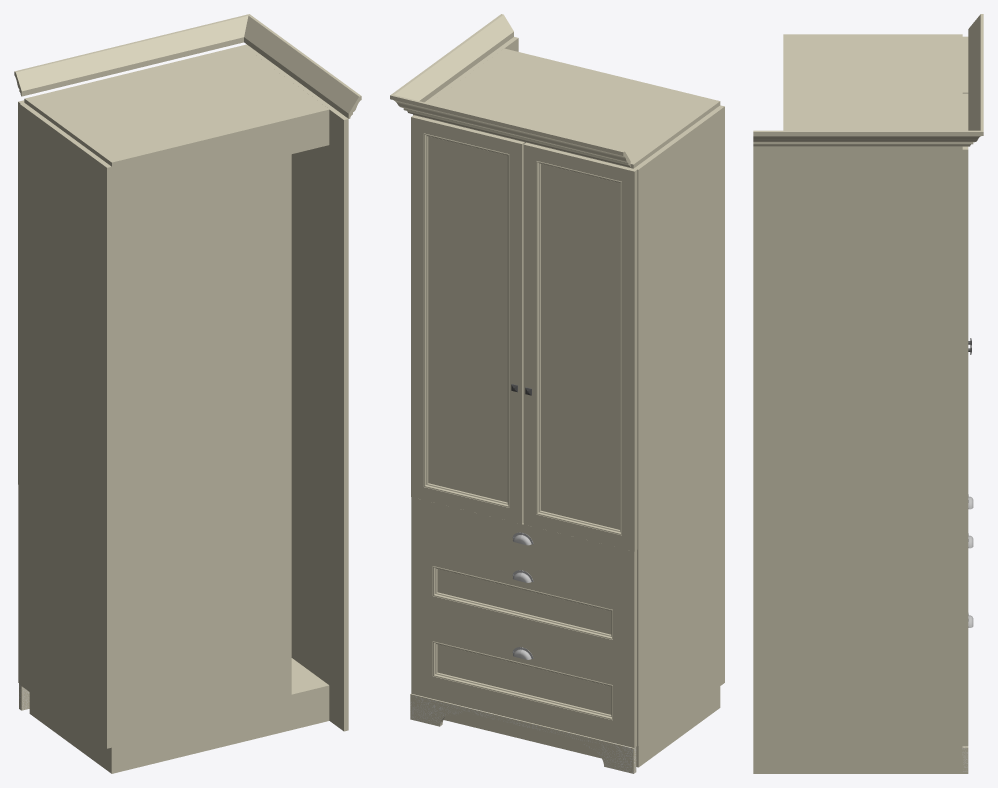
The picture shows the model from 3 angles, left to right: view 1: azimuth 30°, elevation 25°; view 2: azimuth 150°, elevation 25°; view 3: azimuth 270°, elevation 25°; orthographic projection. The views are drawn at different scales.
Visible parts, largest first — view 1: mesh42_mesh42-geometry, mesh40_mesh40-geometry, mesh36_mesh36-geometry, mesh39_mesh39-geometry, mesh43_mesh43-geometry, mesh12_mesh12-geometry; view 2: mesh40_mesh40-geometry, mesh12_mesh12-geometry, mesh9_mesh9-geometry, mesh36_mesh36-geometry, mesh4_mesh4-geometry, mesh1_mesh1-geometry, mesh7_mesh7-geometry, mesh43_mesh43-geometry, mesh45_mesh45-geometry, mesh46_mesh46-geometry, mesh39_mesh39-geometry; view 3: mesh39_mesh39-geometry, mesh36_mesh36-geometry, mesh43_mesh43-geometry, mesh9_mesh9-geometry, mesh4_mesh4-geometry, mesh1_mesh1-geometry.
Part boxes in pixels (x1,y1,x2,y2): mesh42_mesh42-geometry: (112,154,291,742); mesh40_mesh40-geometry: (19,103,111,748); mesh36_mesh36-geometry: (24,45,329,773); mesh39_mesh39-geometry: (242,44,348,731); mesh43_mesh43-geometry: (14,14,361,118); mesh12_mesh12-geometry: (18,100,24,485); mesh40_mesh40-geometry: (634,105,724,745); mesh12_mesh12-geometry: (523,142,637,551); mesh9_mesh9-geometry: (411,115,524,523); mesh36_mesh36-geometry: (417,48,720,767); mesh4_mesh4-geometry: (411,613,636,747); mesh1_mesh1-geometry: (411,538,636,667); mesh7_mesh7-geometry: (411,497,636,592); mesh43_mesh43-geometry: (390,14,630,166); mesh45_mesh45-geometry: (511,718,636,773); mesh46_mesh46-geometry: (410,693,511,726); mesh39_mesh39-geometry: (413,37,518,115); mesh39_mesh39-geometry: (753,146,962,773); mesh36_mesh36-geometry: (783,34,962,130); mesh43_mesh43-geometry: (753,14,983,146); mesh9_mesh9-geometry: (962,93,968,542); mesh4_mesh4-geometry: (962,663,968,746); mesh1_mesh1-geometry: (962,585,968,663).
Bounding box in the file's own units: 0.3541 × 0.8902 × 0.2866.
